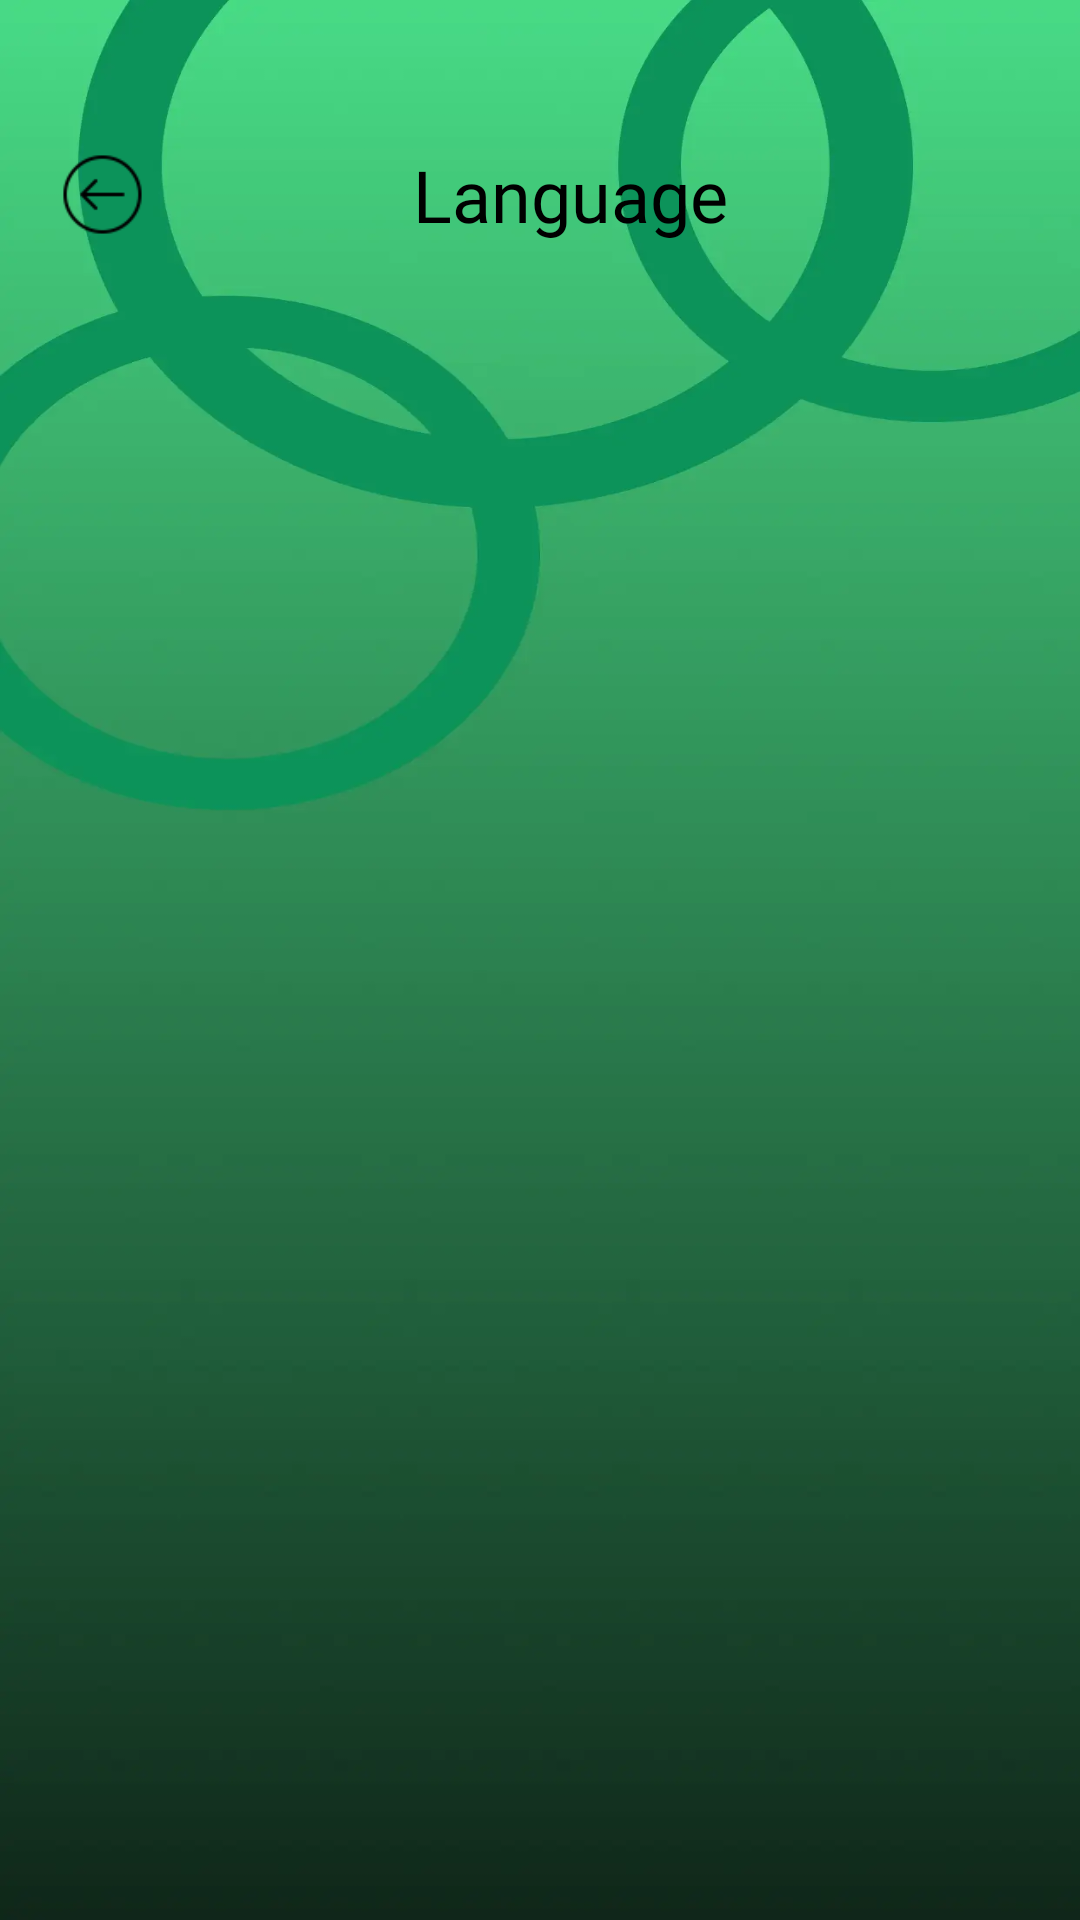

Named icons in this screenshot (1080px×1920px) and their centers, point (x, y):
back: point (101, 194)
